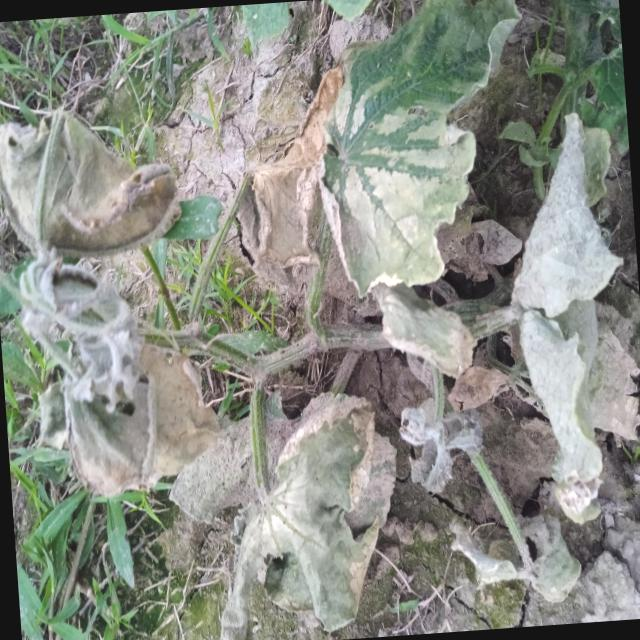cucumber_bacterial: (266, 0, 557, 301), (489, 118, 640, 527), (0, 250, 228, 517), (197, 369, 421, 640), (0, 82, 192, 283), (381, 290, 500, 492)
